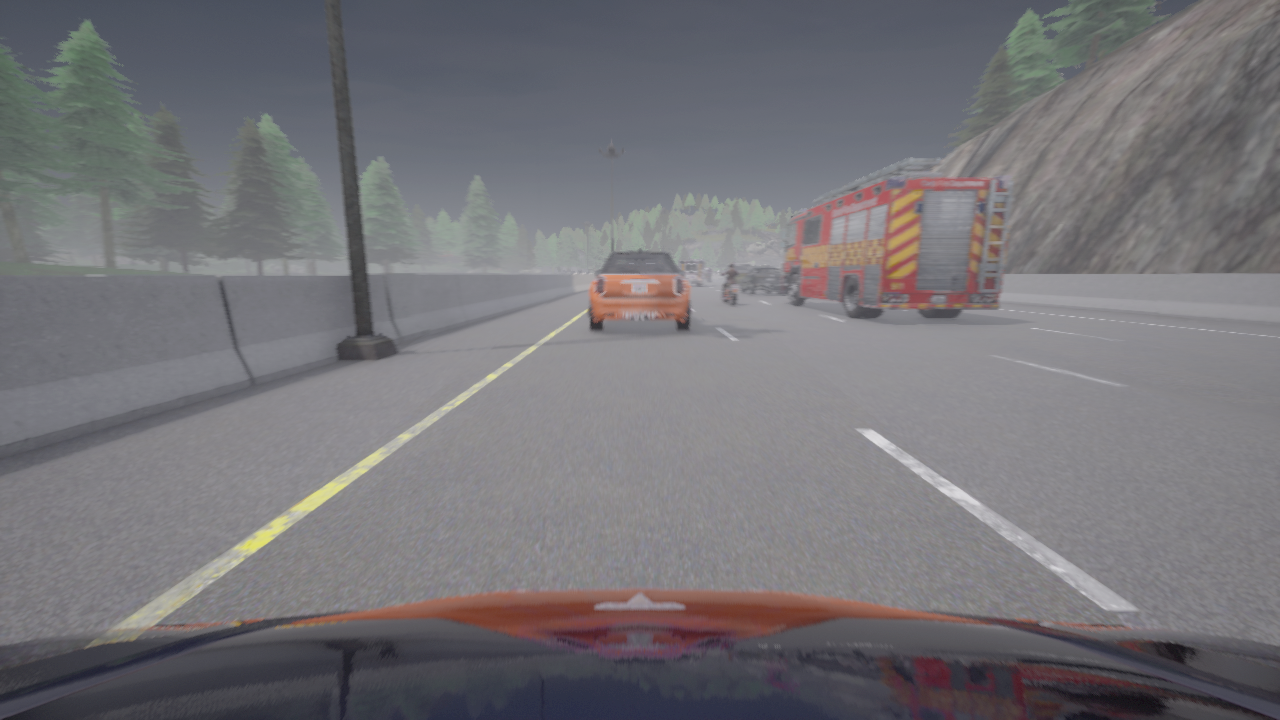cyclist: (0, 588, 1279, 719), (779, 158, 1013, 318), (589, 249, 690, 330), (739, 266, 783, 294), (679, 260, 706, 285), (726, 263, 751, 285), (723, 275, 740, 305), (704, 267, 712, 281)
